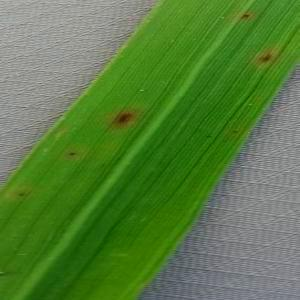0 BrownSpot: (105, 103, 141, 132), (251, 48, 278, 67), (237, 7, 255, 24), (134, 84, 149, 96), (65, 149, 80, 160), (203, 131, 216, 143), (230, 127, 241, 139), (16, 190, 26, 200)
